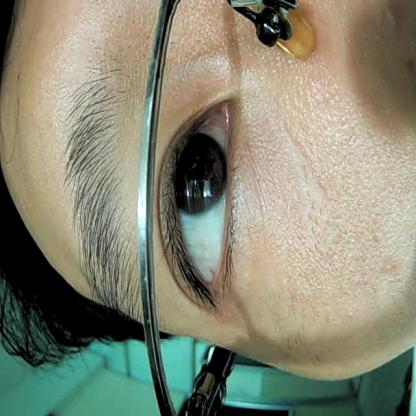Left: (157, 91, 249, 322)
